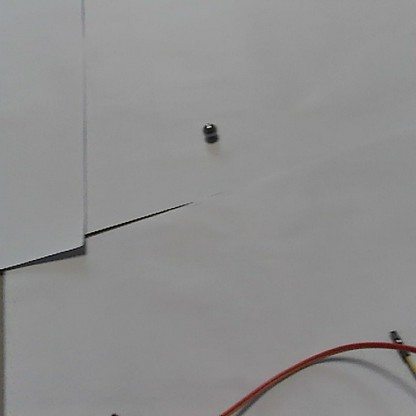ironball: (201, 122, 216, 140)
